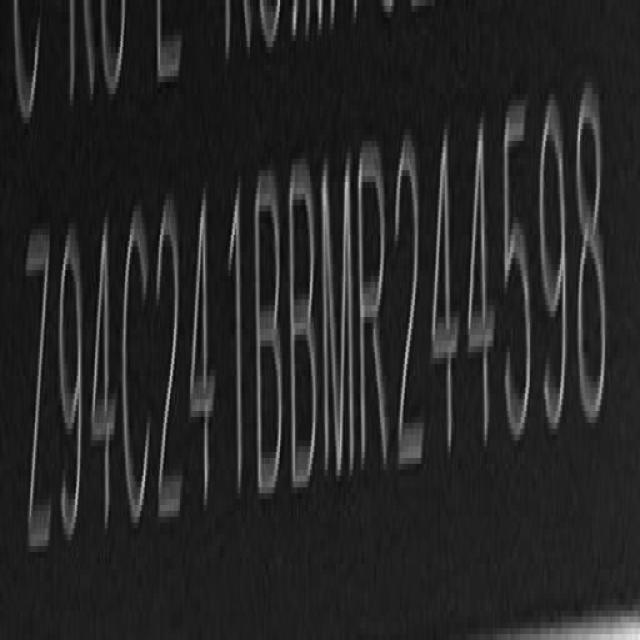1: (226, 177, 247, 517)
2: (397, 136, 426, 478), (158, 197, 186, 539)
4: (464, 108, 494, 460), (431, 127, 460, 471), (191, 181, 217, 526), (91, 217, 118, 547)
5: (502, 100, 534, 455)
8: (576, 87, 608, 437)
9: (540, 94, 572, 447), (58, 227, 86, 555)
B: (253, 172, 284, 506), (291, 156, 320, 498)
C: (123, 201, 157, 543)
M: (321, 148, 352, 490)
R: (358, 141, 389, 482)
Z: (24, 228, 52, 577)
